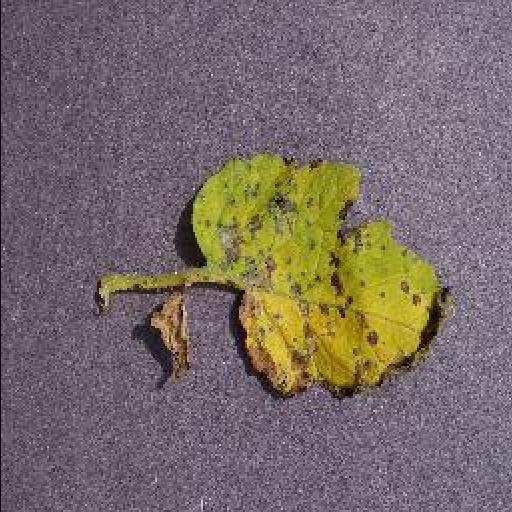disease_tomato: (190, 154, 458, 399)
